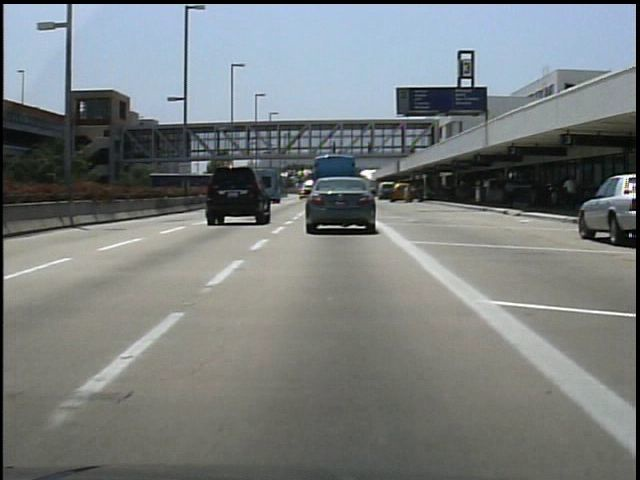person: (560, 171, 579, 212), (500, 175, 518, 212), (412, 179, 429, 205), (401, 179, 417, 206), (364, 138, 377, 160), (328, 135, 341, 156)
